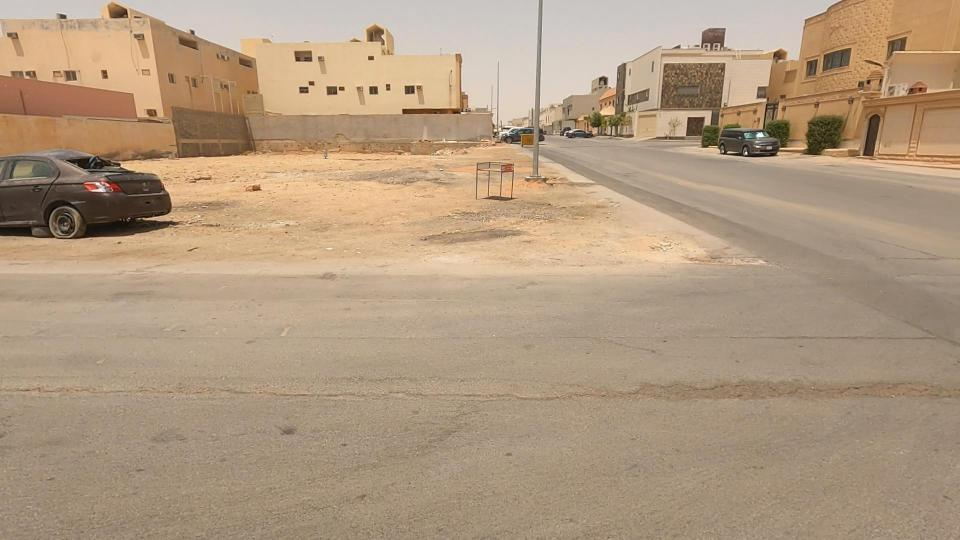GARBAGE: (220, 165, 287, 215)
